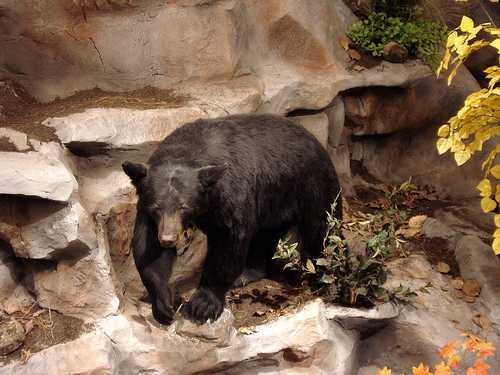bear: (113, 144, 241, 272)
